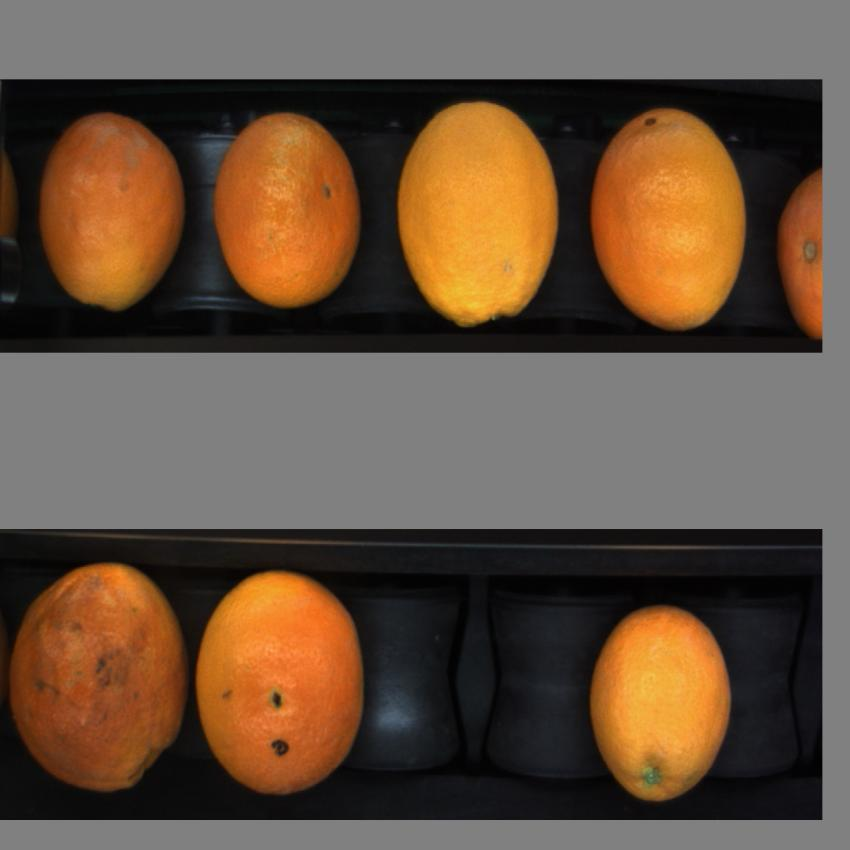Buen estado: (584, 93, 756, 345), (393, 92, 568, 339), (193, 564, 368, 810), (584, 591, 740, 816), (210, 106, 369, 316), (773, 157, 825, 344)
Mal estado: (5, 551, 190, 801), (33, 103, 193, 319)
